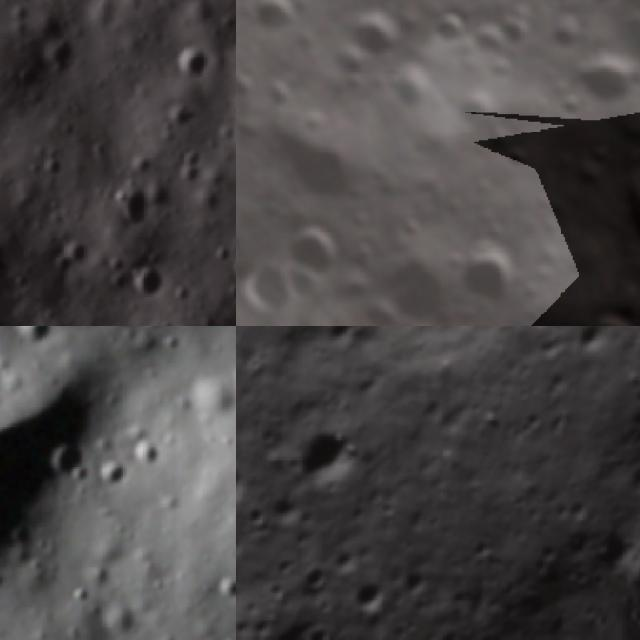crater: (0, 386, 105, 575), (269, 110, 384, 226), (277, 404, 383, 514), (591, 83, 640, 301), (368, 236, 470, 326), (447, 227, 540, 320), (274, 204, 364, 295), (566, 38, 640, 124), (341, 0, 417, 69), (336, 564, 404, 631), (388, 58, 450, 121), (164, 37, 229, 89), (253, 478, 310, 537), (244, 0, 310, 50), (320, 36, 378, 92), (452, 83, 507, 139), (427, 1, 480, 53), (34, 437, 96, 481), (491, 4, 542, 55), (122, 258, 174, 308), (495, 132, 544, 182), (292, 554, 342, 602), (114, 184, 159, 237), (570, 292, 640, 326), (568, 326, 630, 364), (539, 12, 587, 59), (37, 27, 81, 76), (311, 326, 371, 358), (292, 607, 349, 640), (549, 85, 592, 128), (92, 455, 133, 500), (236, 449, 260, 518), (470, 20, 509, 60), (582, 134, 620, 174), (484, 49, 524, 87), (126, 436, 162, 471), (12, 326, 50, 351), (212, 572, 236, 607), (222, 243, 236, 297), (577, 0, 624, 16), (156, 327, 182, 354), (627, 467, 640, 521), (0, 589, 14, 624), (69, 584, 91, 604)
